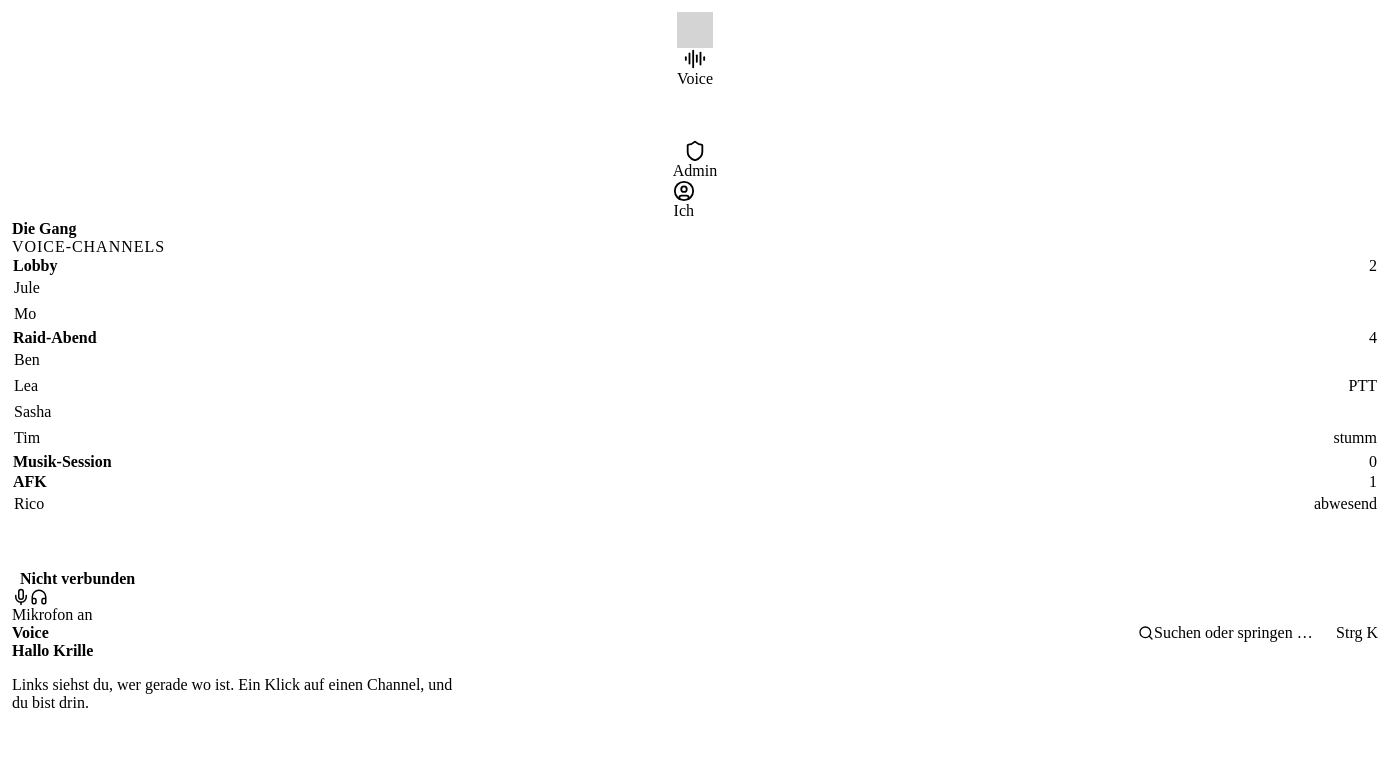
Scenario: Settings: Einfach und Profi › shows four everyday sections in Einfach and adds the rest in Profi, stored
Expected: the heading "Hallo Krille" is shown, [12,642,93,659]
Click the button "Ich" at (684, 200), box [673,180,695,220]
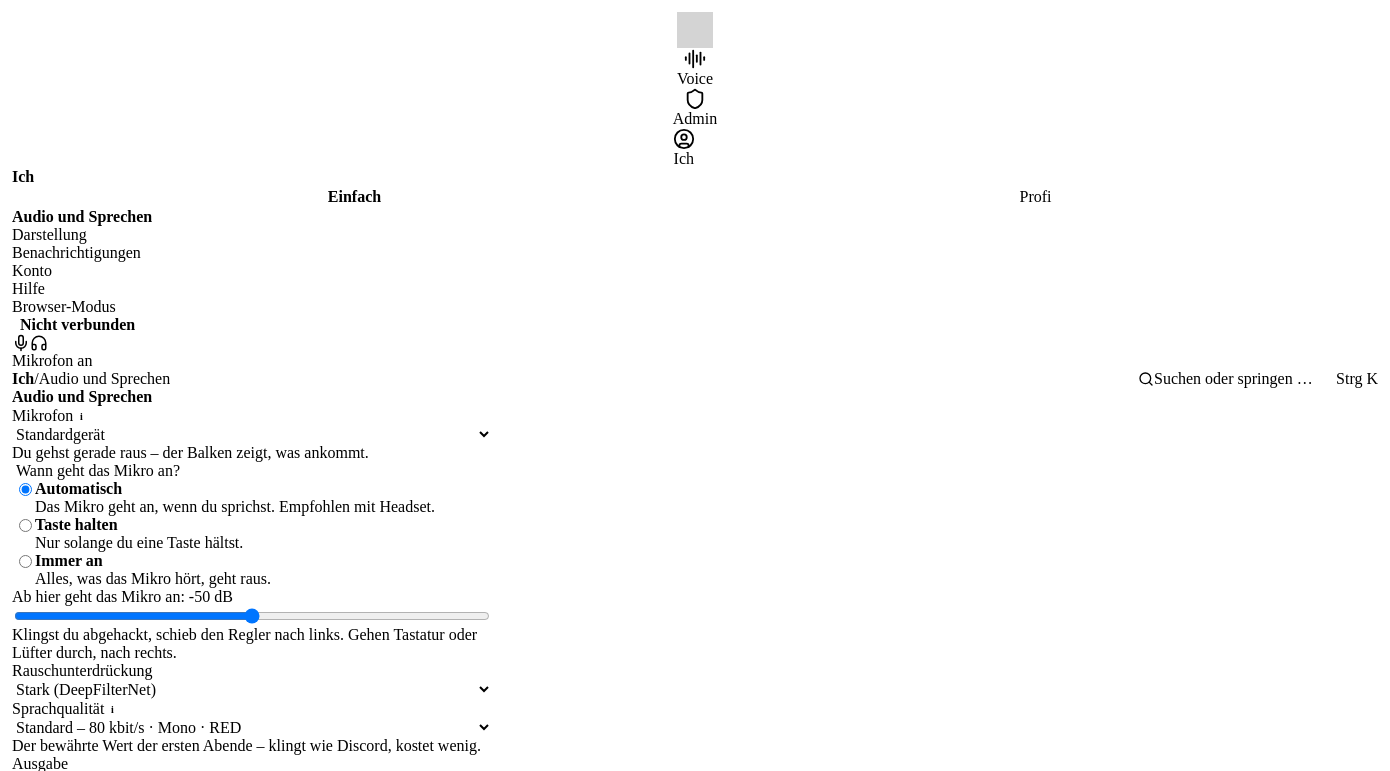
Click the radio button labelled "Profi" at (1036, 196), box [1020,188,1052,205]
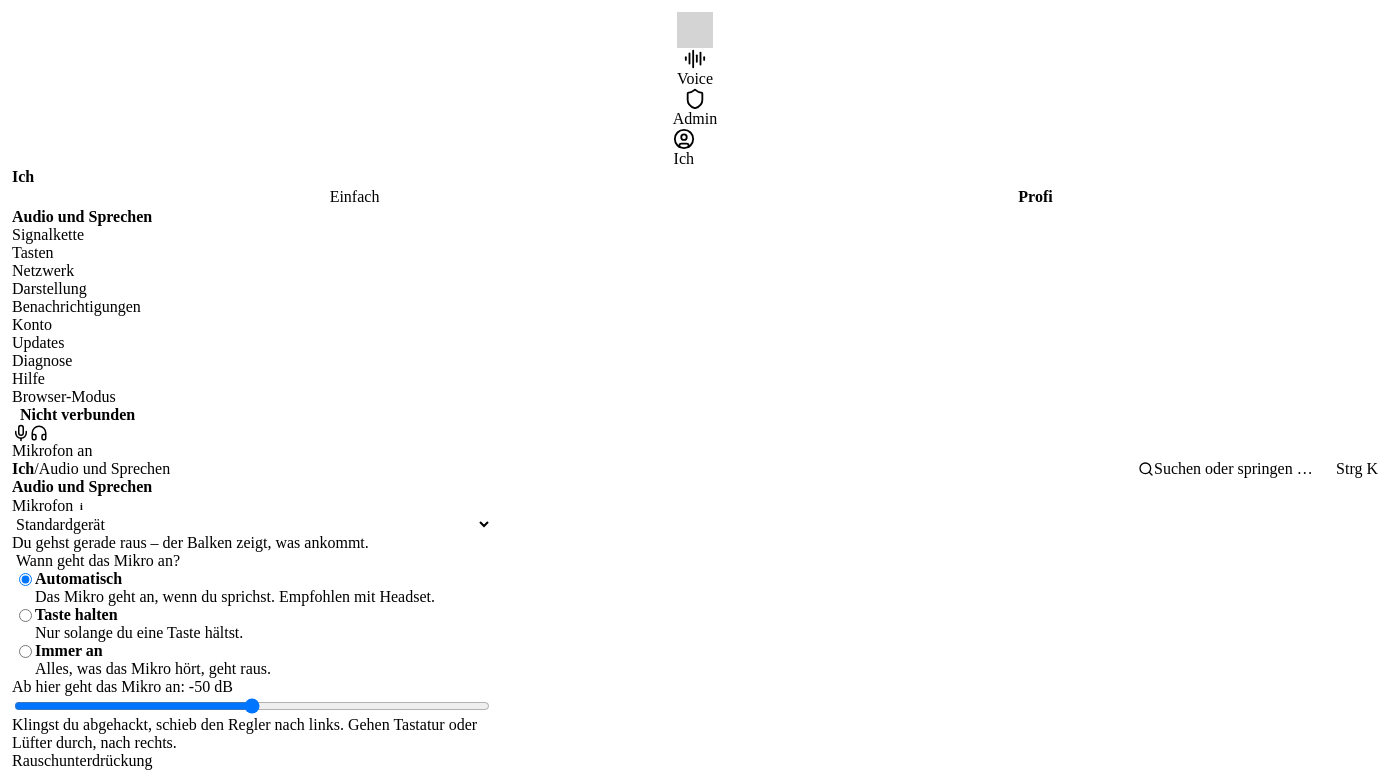
Result: the button "Signalkette" is shown at [12,226,1378,244]
